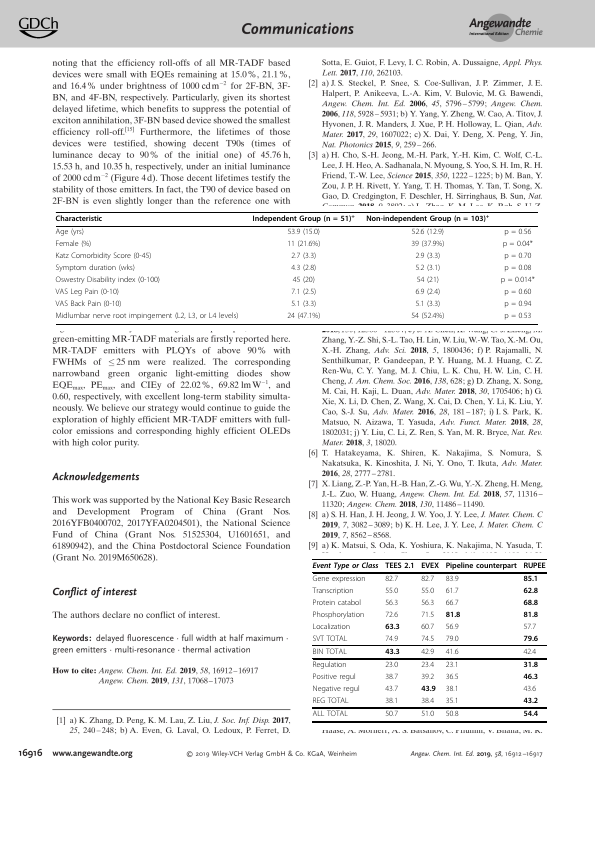borderless: (54, 211, 538, 324), (311, 558, 546, 721)
cell: (55, 312, 239, 321), (365, 213, 490, 224), (252, 213, 356, 224), (55, 276, 161, 286), (55, 252, 152, 262), (55, 264, 136, 274), (445, 562, 518, 571), (312, 562, 379, 571), (55, 300, 122, 309), (55, 288, 120, 297), (312, 575, 366, 585), (312, 611, 365, 621), (312, 599, 362, 609), (312, 685, 361, 695), (312, 673, 357, 683), (55, 215, 103, 224), (312, 587, 354, 597), (312, 623, 351, 633), (312, 697, 349, 707), (55, 240, 92, 250), (312, 648, 348, 658), (312, 661, 348, 671), (500, 276, 536, 286), (286, 228, 321, 238), (286, 240, 321, 250), (410, 240, 445, 250), (411, 228, 445, 238), (312, 711, 349, 720), (312, 635, 348, 644), (502, 240, 534, 250), (286, 312, 321, 321), (410, 312, 445, 321), (55, 228, 85, 238), (503, 228, 532, 238), (503, 252, 532, 262), (503, 264, 532, 274), (384, 562, 415, 571), (290, 252, 317, 262), (414, 252, 441, 262), (290, 264, 317, 274), (414, 264, 441, 274), (503, 288, 532, 297), (503, 300, 532, 309), (503, 312, 532, 321), (290, 288, 317, 297), (414, 288, 441, 297), (290, 300, 317, 309), (414, 300, 441, 309), (292, 276, 316, 286), (416, 276, 440, 286), (522, 562, 547, 571), (420, 562, 440, 571), (522, 661, 539, 671), (522, 673, 539, 683), (420, 685, 437, 695), (522, 697, 539, 707), (522, 575, 539, 584), (522, 587, 539, 596), (522, 599, 539, 608), (522, 611, 539, 620), (384, 623, 401, 632), (522, 635, 539, 644), (384, 648, 401, 657), (522, 711, 539, 720), (384, 575, 399, 585), (420, 575, 435, 585), (384, 587, 399, 597), (420, 587, 435, 597), (384, 599, 399, 609), (420, 599, 435, 609), (384, 611, 399, 621), (420, 611, 435, 621), (420, 623, 435, 633), (522, 623, 537, 633), (420, 648, 435, 658), (522, 648, 537, 658), (384, 661, 399, 671), (420, 661, 435, 671), (384, 673, 399, 683), (420, 673, 435, 683), (384, 685, 399, 695), (522, 685, 537, 695), (384, 697, 399, 707), (420, 697, 435, 707), (445, 611, 461, 620), (445, 575, 459, 585), (445, 587, 459, 597), (445, 599, 459, 609), (445, 623, 459, 633), (445, 648, 459, 658), (445, 661, 459, 671), (445, 673, 459, 683), (445, 685, 459, 695), (445, 697, 459, 707), (384, 635, 399, 644), (420, 635, 435, 644), (384, 711, 399, 720), (420, 711, 435, 720), (445, 635, 459, 644), (445, 711, 459, 720)
